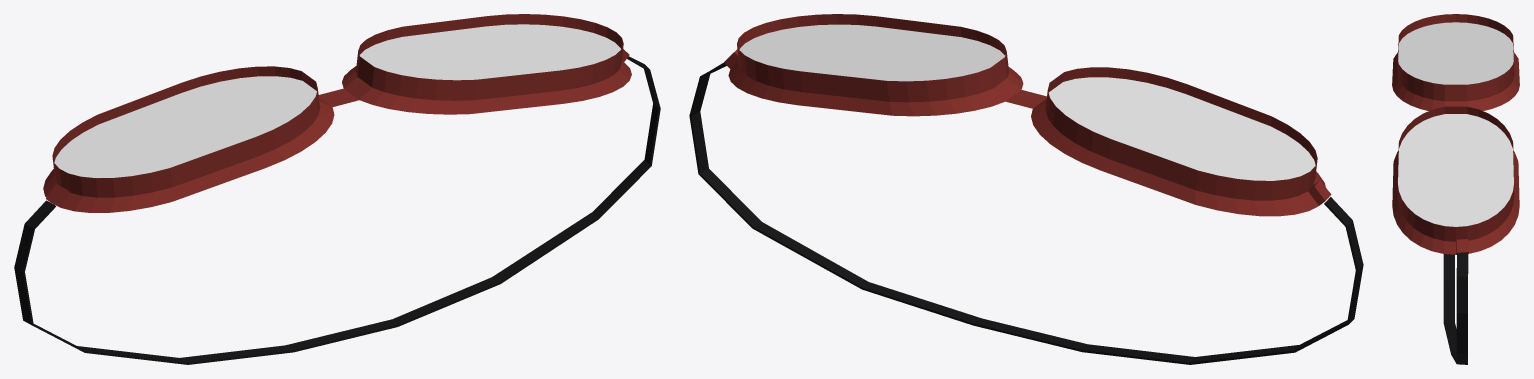
File: Glasses.fbx
3 renders of one model, left to right at view 1: azimuth 30°, elevation 25°; view 2: azimuth 150°, elevation 25°; view 3: azimuth 270°, elevation 25°, orthographic. The views are drawn at different scales.
Visible parts, largest first — view 1: Plane.002; view 2: Plane.002; view 3: Plane.002.
Boxes of the visible parts, left/top/right/bottom form: Plane.002: left=14, top=14, right=660, bottom=364; Plane.002: left=689, top=14, right=1363, bottom=364; Plane.002: left=1392, top=14, right=1519, bottom=364.
Size of the model in its own units: 1011 by 395 by 219.
